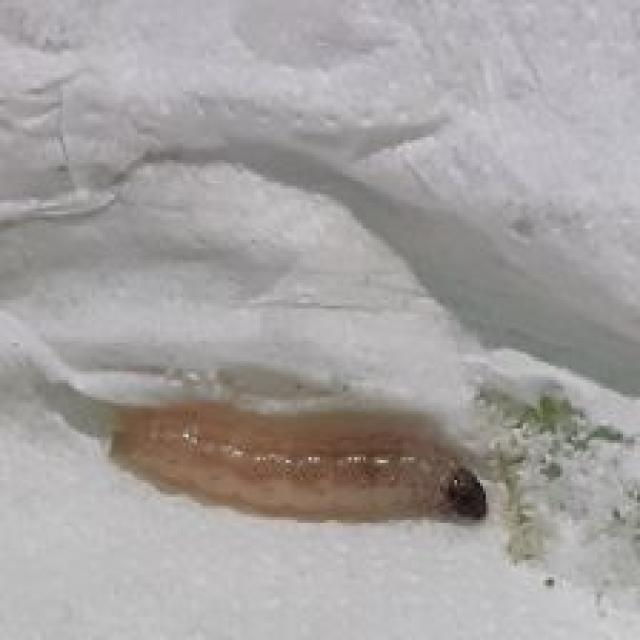white mucus: (95, 406, 506, 548)
